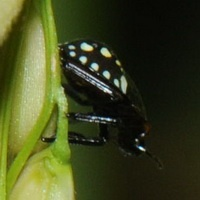insect: (59, 40, 148, 153)
